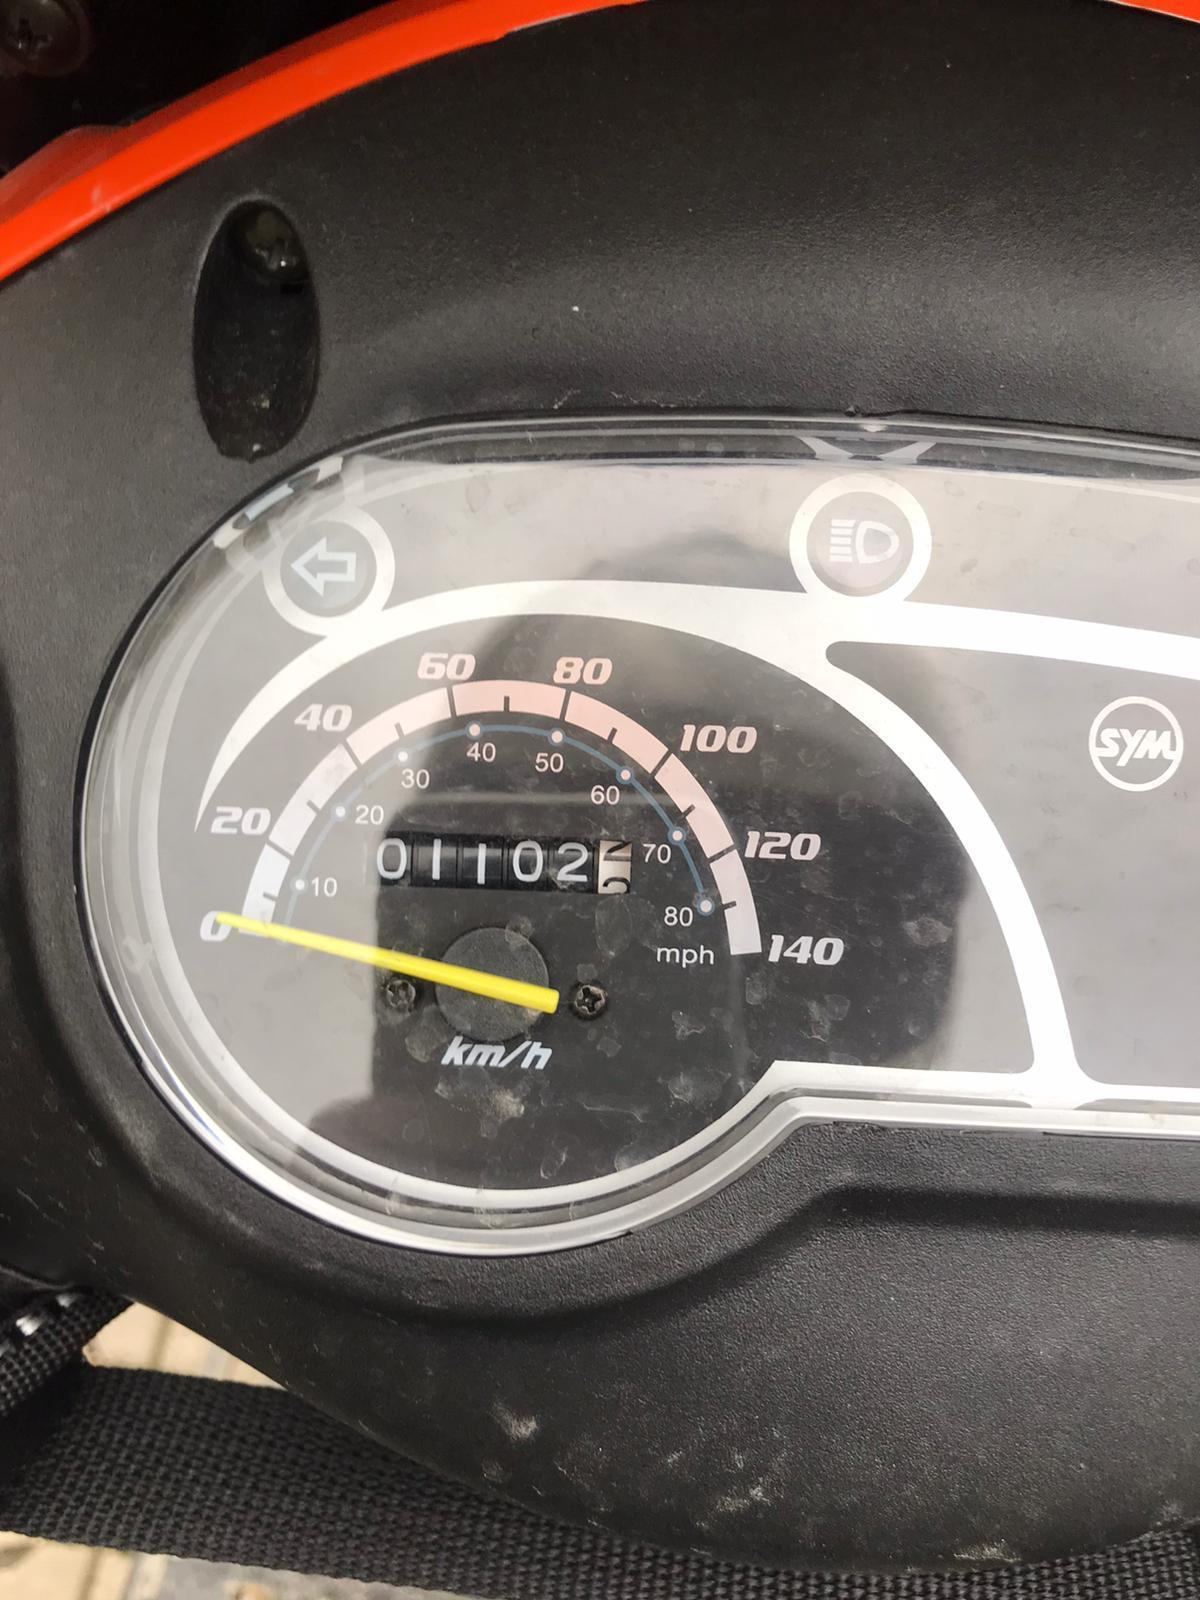0: (509, 835, 546, 888), (372, 834, 411, 883)
1: (424, 833, 447, 886), (471, 837, 493, 889)
2: (555, 840, 591, 889), (603, 831, 634, 868)
odometer: (354, 828, 637, 897)
